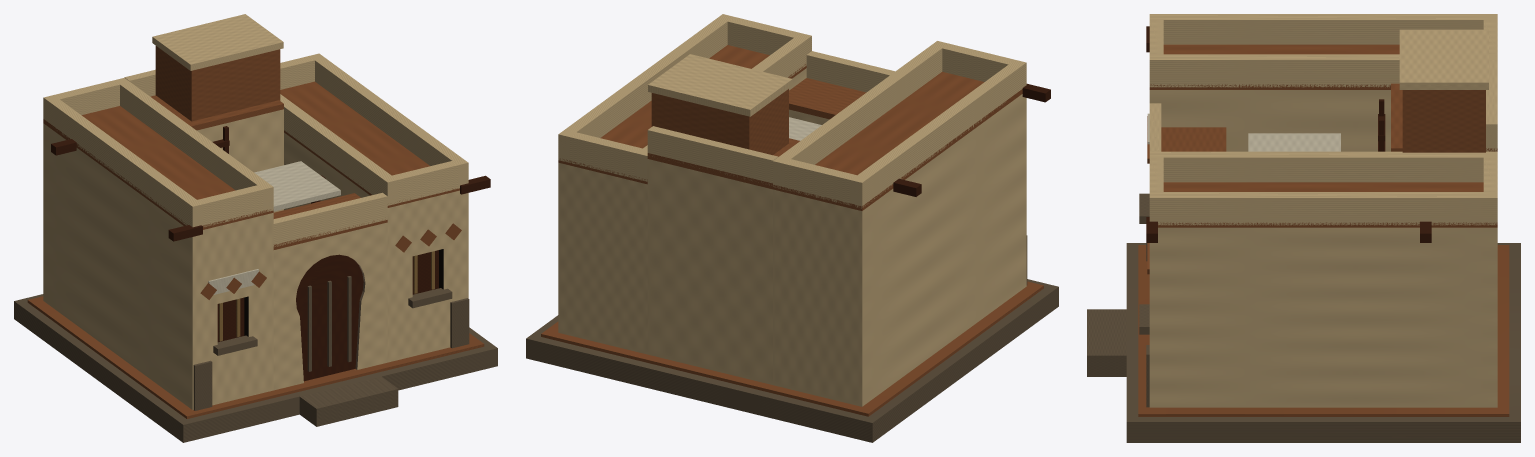
File: Berber_House_Age3.fbx
The picture shows the model from 3 angles, left to right: view 1: azimuth 30°, elevation 25°; view 2: azimuth 150°, elevation 25°; view 3: azimuth 270°, elevation 25°; orthographic projection. The views are drawn at different scales.
Parts seen in each view (by area): view 1: west_room, east_room, stone_foundation, entrance_room, roof_grain_store, horseshoe_door, west_roof_deck, west_parapet, east_roof_deck, courtyard_earthen_floor, west_parapet.001, east_parapet.001 (+20 smaller); view 2: west_room, north_room, east_room, stone_foundation, west_roof_deck, west_parapet, courtyard_earthen_floor, west_parapet.001, grain_store_lime_cap, roof_grain_store, east_parapet.001, link_roof_parapet (+9 smaller); view 3: east_room, stone_foundation, east_parapet.001, west_room, east_parapet, west_parapet, west_parapet.001, courtyard_earthen_floor, grain_store_lime_cap, roof_grain_store, east_roof_deck, west_roof_deck (+9 smaller).
Boxes of the visible parts, x1=… form: west_room: x1=43, y1=123, x2=273, y2=409; east_room: x1=284, y1=132, x2=468, y2=362; stone_foundation: x1=14, y1=294, x2=497, y2=442; entrance_room: x1=273, y1=222, x2=387, y2=390; roof_grain_store: x1=155, y1=46, x2=280, y2=121; horseshoe_door: x1=296, y1=254, x2=363, y2=381; west_roof_deck: x1=43, y1=106, x2=273, y2=229; west_parapet: x1=43, y1=95, x2=202, y2=227; east_roof_deck: x1=280, y1=81, x2=459, y2=207; courtyard_earthen_floor: x1=27, y1=296, x2=484, y2=418; west_parapet.001: x1=114, y1=77, x2=273, y2=212; east_parapet.001: x1=309, y1=53, x2=468, y2=188; west_room: x1=773, y1=94, x2=1026, y2=406; north_room: x1=647, y1=159, x2=772, y2=384; east_room: x1=558, y1=68, x2=806, y2=354; stone_foundation: x1=526, y1=279, x2=1058, y2=442; west_roof_deck: x1=773, y1=71, x2=1022, y2=210; west_parapet: x1=850, y1=60, x2=1026, y2=208; courtyard_earthen_floor: x1=541, y1=281, x2=1043, y2=416; west_parapet.001: x1=773, y1=41, x2=948, y2=189; grain_store_lime_cap: x1=648, y1=54, x2=792, y2=116; roof_grain_store: x1=651, y1=89, x2=788, y2=155; east_parapet.001: x1=558, y1=14, x2=733, y2=162; link_roof_parapet: x1=647, y1=126, x2=777, y2=185; east_room: x1=1149, y1=227, x2=1497, y2=407; stone_foundation: x1=1126, y1=243, x2=1520, y2=442; east_parapet.001: x1=1149, y1=192, x2=1497, y2=225; west_room: x1=1149, y1=90, x2=1390, y2=151; east_parapet: x1=1149, y1=151, x2=1497, y2=182; west_parapet: x1=1149, y1=14, x2=1497, y2=44; west_parapet.001: x1=1149, y1=54, x2=1497, y2=87; courtyard_earthen_floor: x1=1138, y1=245, x2=1509, y2=416; grain_store_lime_cap: x1=1399, y1=29, x2=1488, y2=89; roof_grain_store: x1=1402, y1=90, x2=1485, y2=152; east_roof_deck: x1=1158, y1=182, x2=1497, y2=227; west_roof_deck: x1=1149, y1=44, x2=1399, y2=89.
Size of the model in its own units: 368 by 291 by 374.
Materials: 7 (7 with a texture image).
